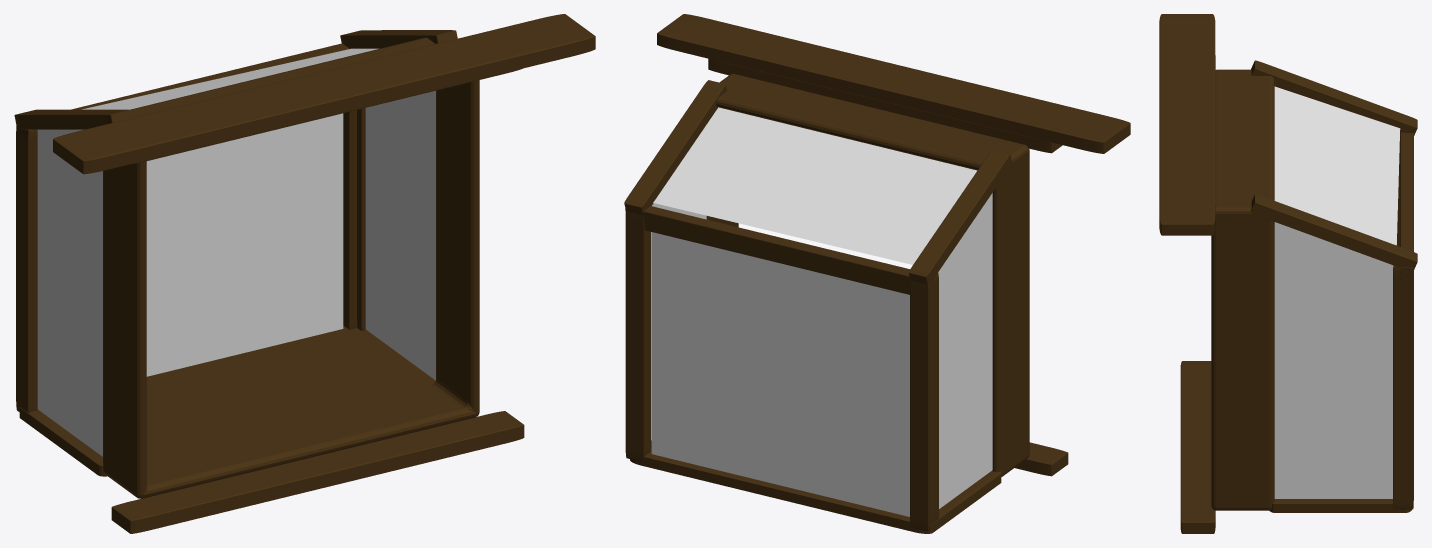
Rendered from Window07.fbx.
3 renders of one model, left to right at view 1: azimuth 30°, elevation 25°; view 2: azimuth 150°, elevation 25°; view 3: azimuth 270°, elevation 25°, orthographic. The views are drawn at different scales.
Visible parts, largest first — view 1: WindowGlow, WindowGlow.001, WindowFrame04, WindowFrame04.001, WindowFrame01.002, WindowFrame04.002, WindowFrame01, WindowFrame03.001, WindowFrame03.003, WindowFrame02, WindowGlow.002, WindowFrame03.002; view 2: WindowGlow, WindowGlow.002, WindowFrame01.002, WindowFrame04, WindowGlow.001, WindowFrame03.001, WindowFrame04.001, WindowFrame03.003, WindowFrame03.002, WindowFrame04.002, WindowFrame01.001, WindowFrame01; view 3: WindowGlow.001, WindowFrame04, WindowFrame04.001, WindowGlow.002, WindowFrame01.002, WindowFrame03.003, WindowFrame01, WindowFrame03.001, WindowFrame03.002, WindowFrame04.002, WindowFrame02.
Part boxes in pixels (<box>): WindowGlow: <box>146,113,343,376</box>; WindowGlow.001: <box>37,90,435,456</box>; WindowFrame04: <box>103,38,479,498</box>; WindowFrame04.001: <box>103,37,479,498</box>; WindowFrame01.002: <box>53,14,595,174</box>; WindowFrame04.002: <box>19,326,435,476</box>; WindowFrame01: <box>111,411,524,533</box>; WindowFrame03.001: <box>16,108,366,412</box>; WindowFrame03.003: <box>14,30,457,129</box>; WindowFrame02: <box>111,412,524,533</box>; WindowGlow.002: <box>81,48,378,109</box>; WindowFrame03.002: <box>71,43,349,109</box>; WindowGlow: <box>651,232,909,516</box>; WindowGlow.002: <box>653,107,977,264</box>; WindowFrame01.002: <box>657,14,1130,153</box>; WindowFrame04: <box>706,73,1029,476</box>; WindowGlow.001: <box>651,193,992,508</box>; WindowFrame03.001: <box>625,211,938,531</box>; WindowFrame04.001: <box>706,74,1028,472</box>; WindowFrame03.003: <box>624,80,1012,284</box>; WindowFrame03.002: <box>625,206,910,294</box>; WindowFrame04.002: <box>630,440,1001,533</box>; WindowFrame01.001: <box>708,58,1062,153</box>; WindowFrame01: <box>1015,442,1068,476</box>; WindowGlow.001: <box>1274,222,1393,498</box>; WindowFrame04: <box>1211,69,1274,510</box>; WindowFrame04.001: <box>1211,69,1274,510</box>; WindowGlow.002: <box>1274,86,1400,245</box>; WindowFrame01.002: <box>1159,14,1215,235</box>; WindowFrame03.003: <box>1250,60,1417,270</box>; WindowFrame01: <box>1180,361,1215,533</box>; WindowFrame03.001: <box>1393,134,1413,509</box>; WindowFrame03.002: <box>1399,132,1413,285</box>; WindowFrame04.002: <box>1269,499,1411,512</box>; WindowFrame02: <box>1180,361,1214,532</box>.
Size of the model in its own units: 83.56 by 61.92 by 43.31.
